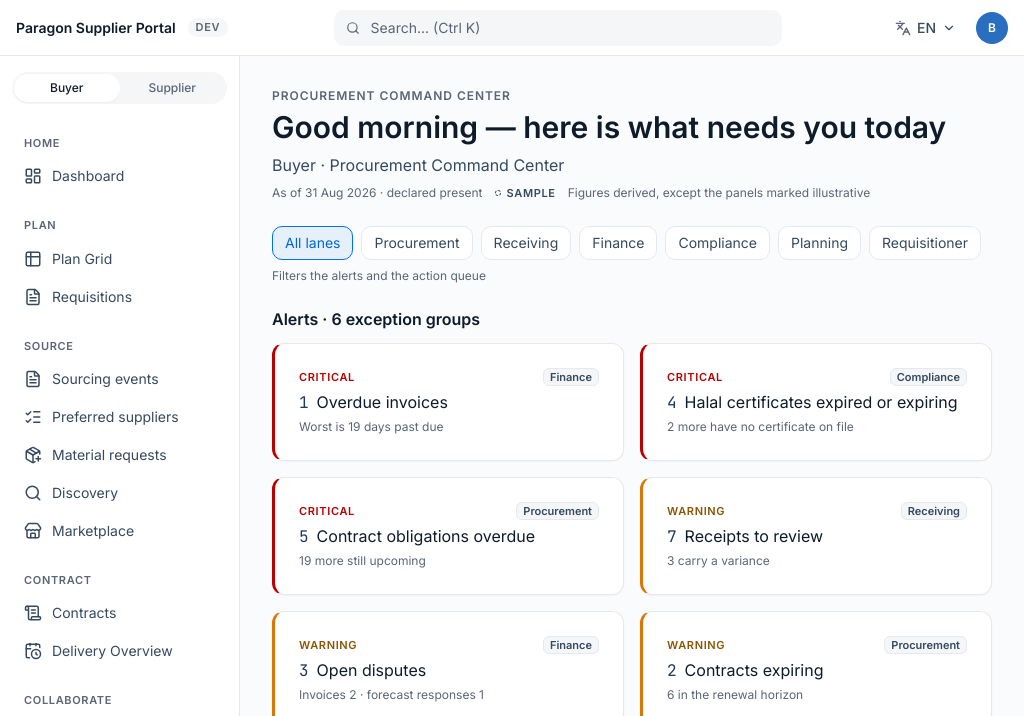
⚠️ THE ACTION QUEUE — lanes, filtering and handoff › ⚠️ A LANE WITH NO ROW SAYS SO — it does not claim there is no work
The width and height of the screenshot is (1024, 716).
Expected: the heading "Good morning — here is what needs you today" is shown, [272,109,946,145]
Click the button with test id "lane-chip-requisitioner" at (925, 243), box [869,226,981,260]
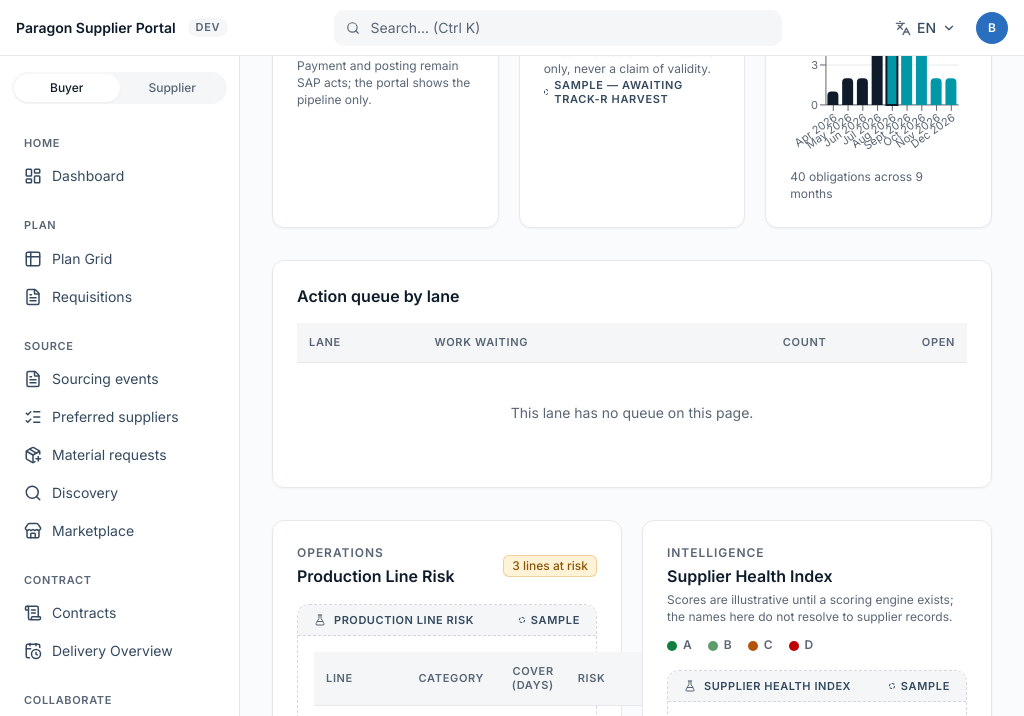
Now the text "This lane has no queue on this page." is shown, box [297,362,967,463]
